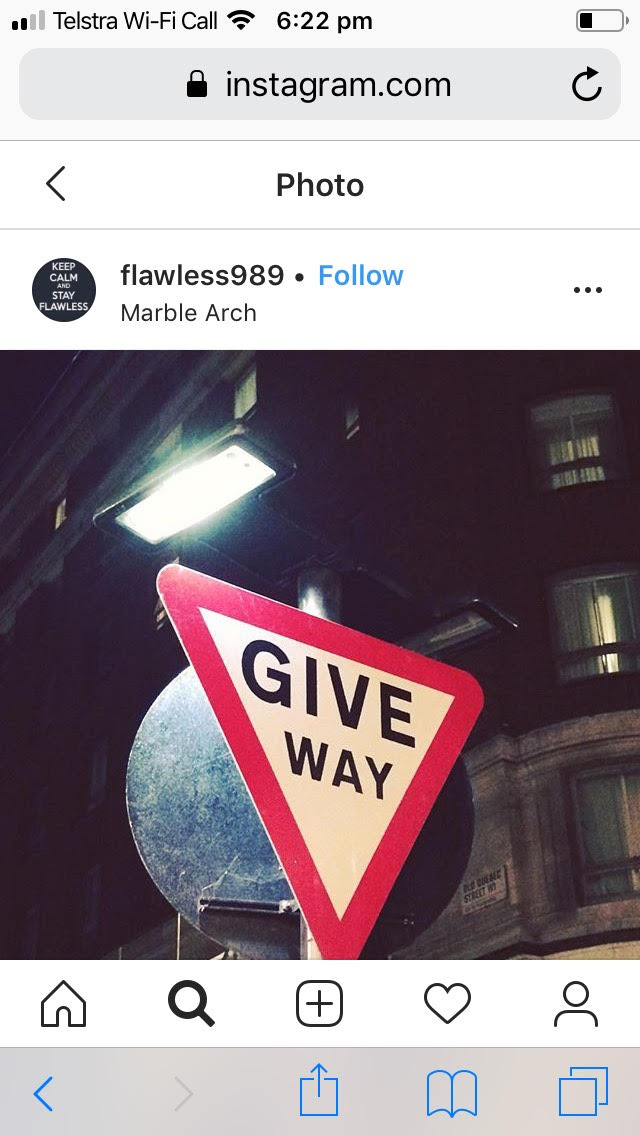giveway: (152, 564, 485, 958), (157, 555, 341, 958), (214, 709, 438, 934), (343, 605, 459, 934), (284, 601, 385, 969)
